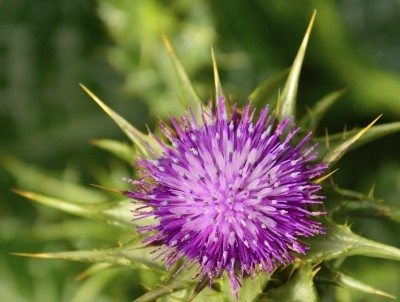thistle: (66, 43, 390, 302)
